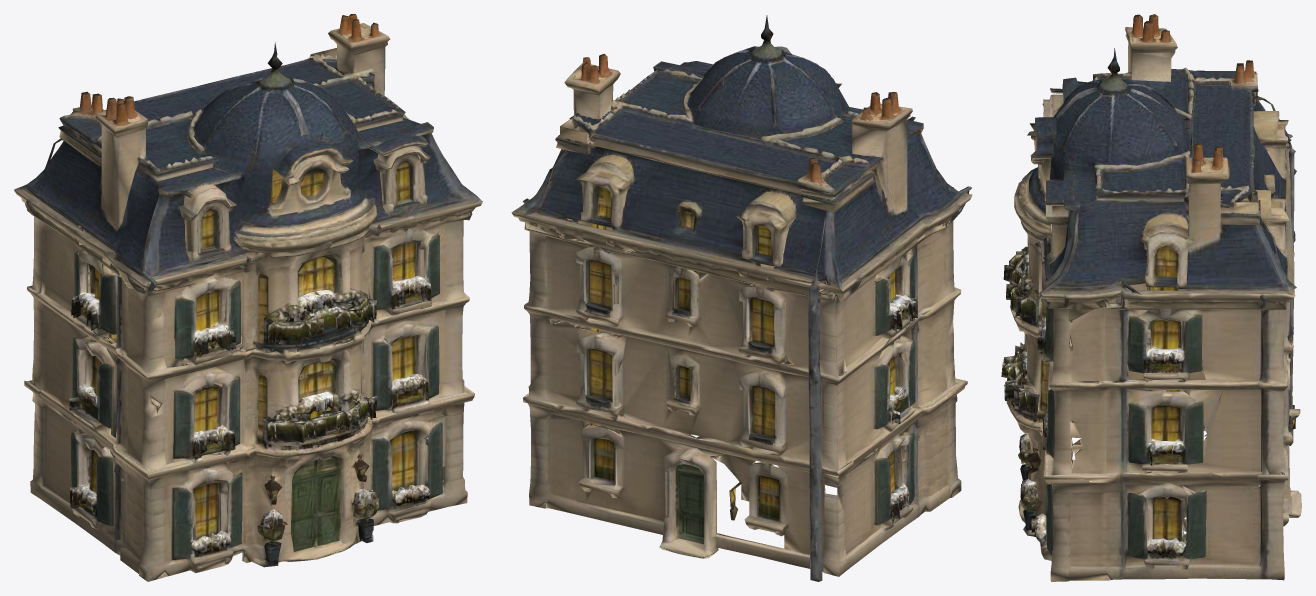
File: candidate.glb
The picture shows the model from 3 angles, left to right: view 1: azimuth 30°, elevation 25°; view 2: azimuth 150°, elevation 25°; view 3: azimuth 270°, elevation 25°; orthographic projection. The views are drawn at different scales.
Parts seen in each view (by area): view 1: classic__tower_3__native_mobile; view 2: classic__tower_3__native_mobile; view 3: classic__tower_3__native_mobile.
Boxes of the visible parts, left/top/right/bottom form: classic__tower_3__native_mobile: left=14, top=14, right=482, bottom=581; classic__tower_3__native_mobile: left=511, top=15, right=972, bottom=581; classic__tower_3__native_mobile: left=1001, top=14, right=1301, bottom=581.
Bounding box in the file's own units: 0.7532 × 1 × 0.5862.
1 material, 1 textured.
